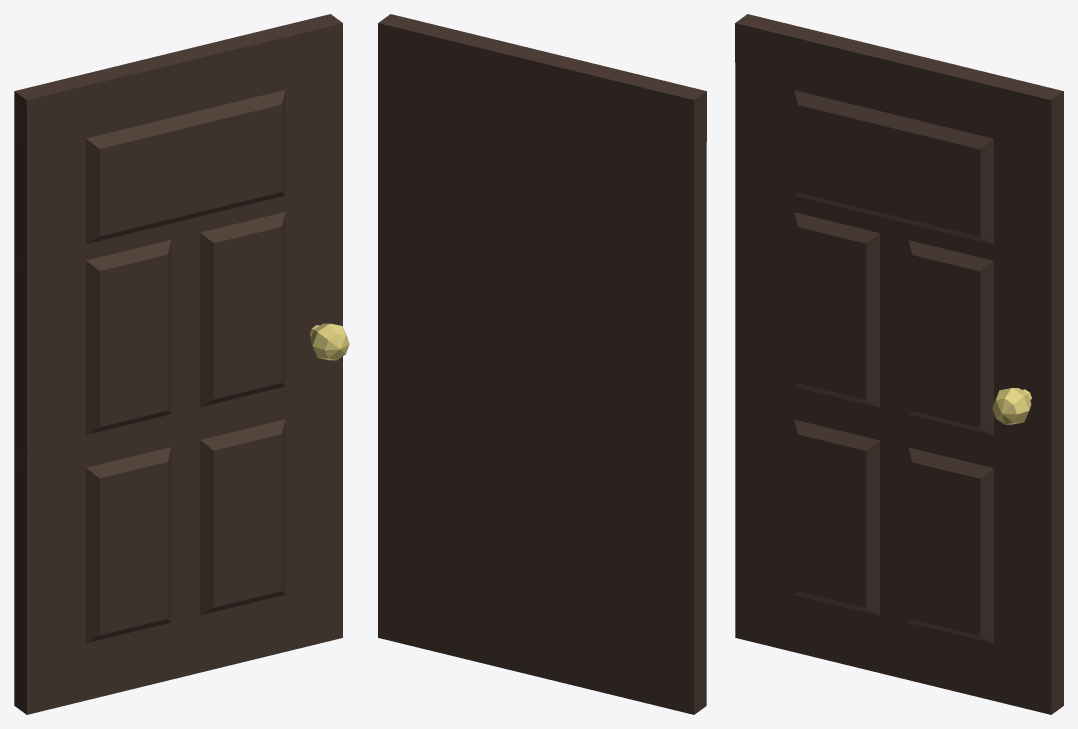
The model's file is Itr_Door_04.FBX.
3 renders of one model, left to right at view 1: azimuth 30°, elevation 25°; view 2: azimuth 150°, elevation 25°; view 3: azimuth 330°, elevation 25°, orthographic.
Visible parts, largest first — view 1: Itr_Door_04; view 2: Itr_Door_04; view 3: Itr_Door_04.
Boxes of the visible parts, x1,y1,x2,y2 form: Itr_Door_04: (14,14,349,714); Itr_Door_04: (378,14,706,714); Itr_Door_04: (735,14,1063,714).
Bounding box in the file's own units: 43.59 × 80.97 × 8.56.
